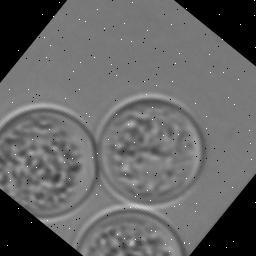picoshell: (97, 94, 204, 206), (0, 102, 97, 222), (74, 204, 185, 256)
